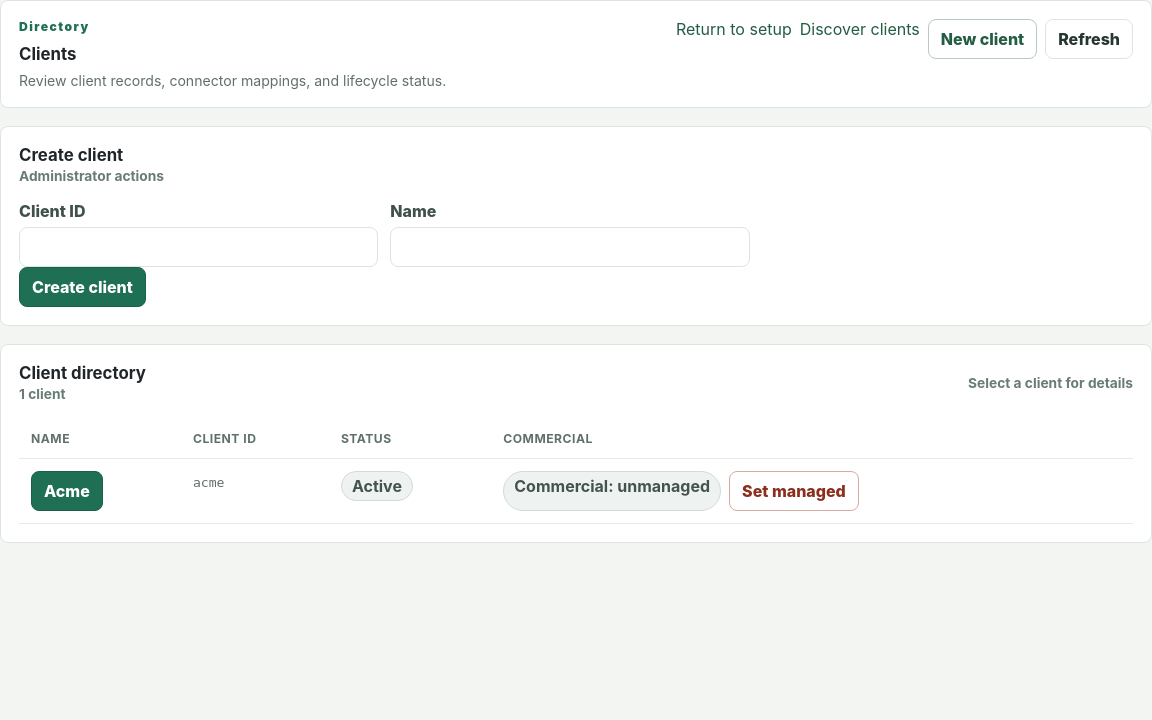
Test: Clients commercial activation hook › shows neutral activation controls only for a loaded commercial entitlement
Expected: the text "Commercial: unmanaged" is shown, left=503, top=471, right=721, bottom=511
Click the button "Set managed" at {"x": 794, "y": 491}, box left=729, top=471, right=859, bottom=511
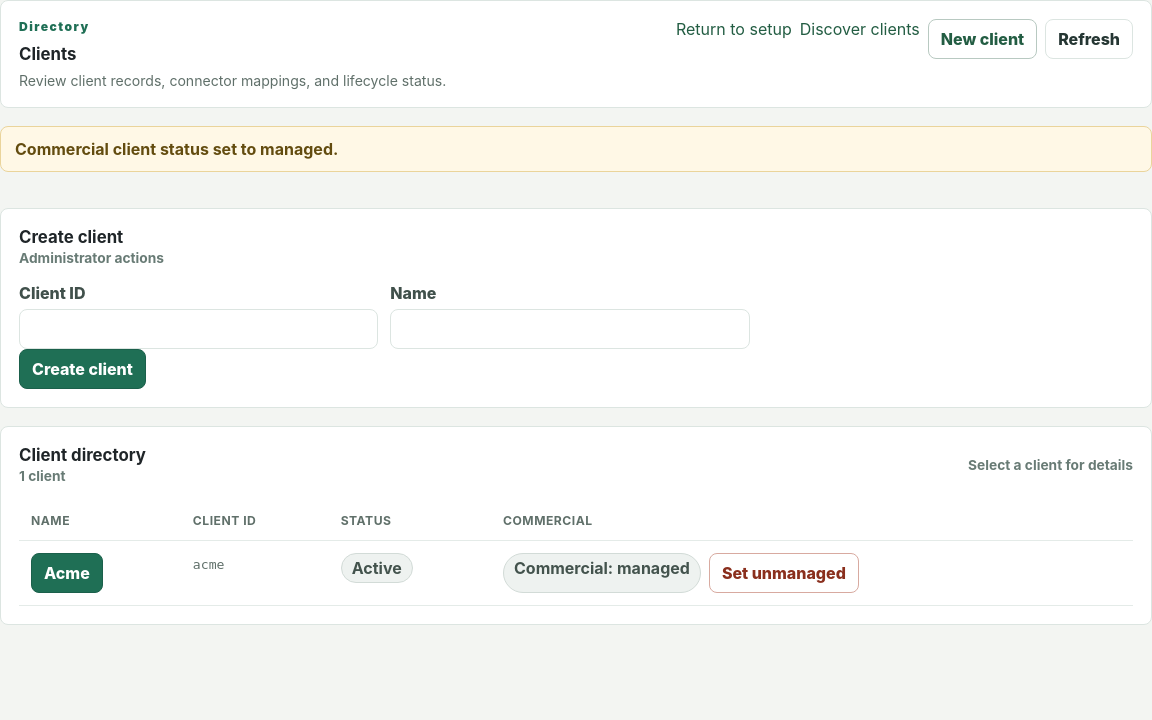
Result: the text "Commercial: managed" is shown at left=503, top=553, right=701, bottom=593
